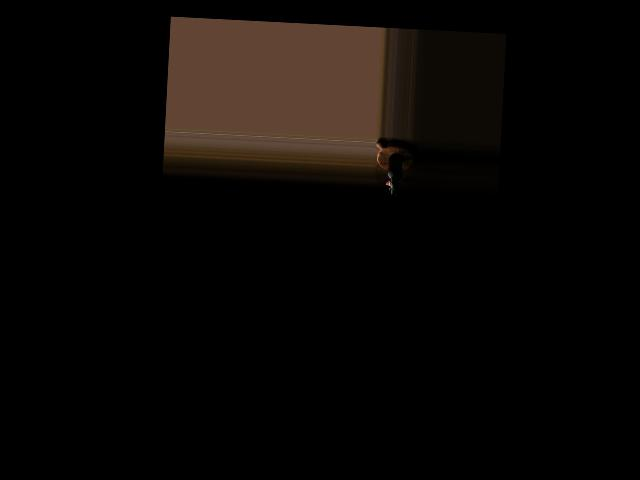beer: (386, 154, 402, 197)
